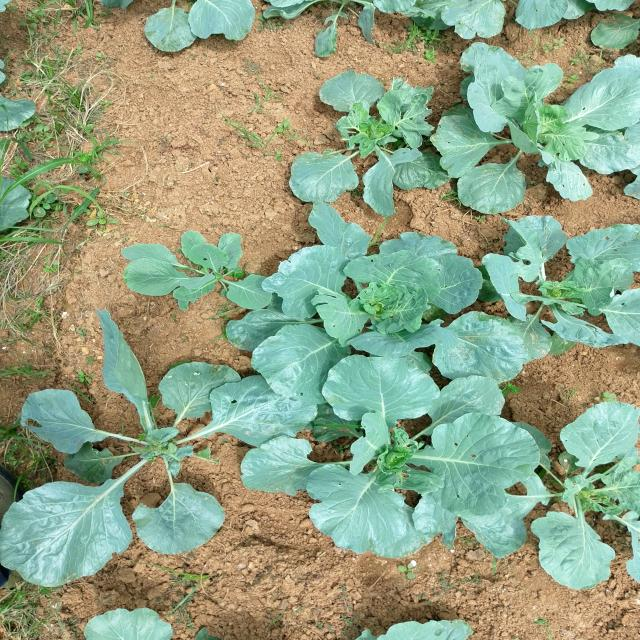Cabbage: (0, 314, 271, 608), (274, 356, 539, 580), (441, 45, 640, 228), (245, 227, 500, 360), (256, 71, 446, 225), (540, 382, 640, 596), (494, 222, 640, 365), (114, 219, 269, 313), (364, 0, 640, 44), (112, 0, 293, 48)
